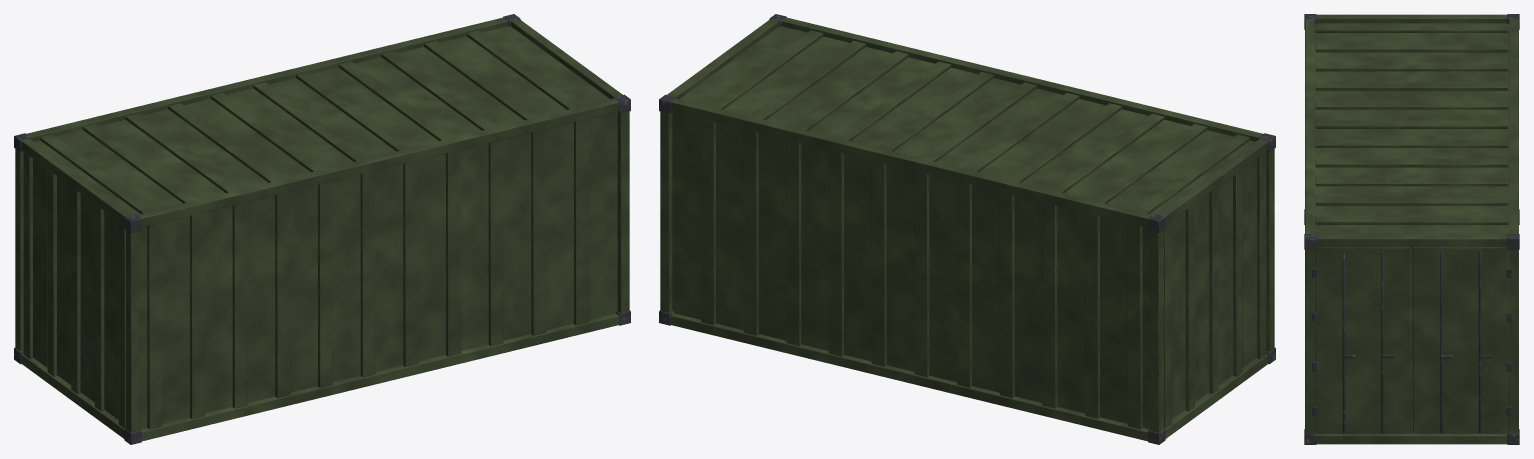
Rendered from COV_Container_20ft_Olive.glb.
3 views of the same model, side by side, from view 1: azimuth 30°, elevation 25°; view 2: azimuth 150°, elevation 25°; view 3: azimuth 270°, elevation 25° (orthographic). The views are drawn at different scales.
Parts seen in each view (by area): view 1: COV_Container_20ft_Olive_Mesh; view 2: COV_Container_20ft_Olive_Mesh; view 3: COV_Container_20ft_Olive_Mesh.
Boxes of the visible parts, x1,y1,x2,y2 form: COV_Container_20ft_Olive_Mesh: [14, 14, 630, 444]; COV_Container_20ft_Olive_Mesh: [659, 14, 1275, 444]; COV_Container_20ft_Olive_Mesh: [1304, 14, 1519, 444].
Size of the model in its own units: 6.11 by 2.6 by 2.46.
Materials: 2 (2 with a texture image).
